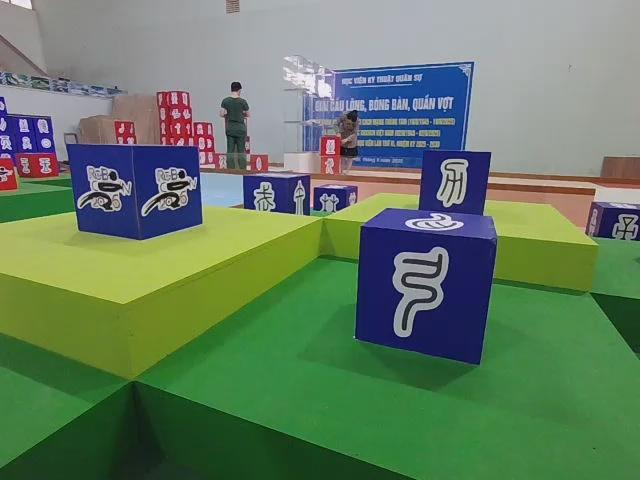R1 Blue: (66, 143, 201, 241)
R2 Fake Blue: (355, 208, 498, 367), (418, 149, 490, 217), (244, 173, 310, 215)
R2 Real Blue: (586, 201, 639, 242), (314, 184, 359, 213)
